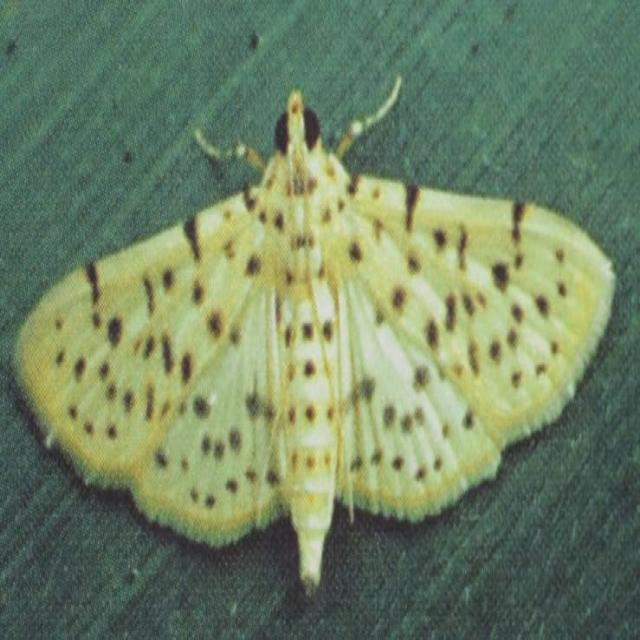peach borer: (10, 96, 624, 592)
